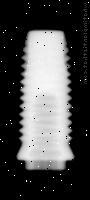Nobel Biocare: (16, 29, 75, 170)
